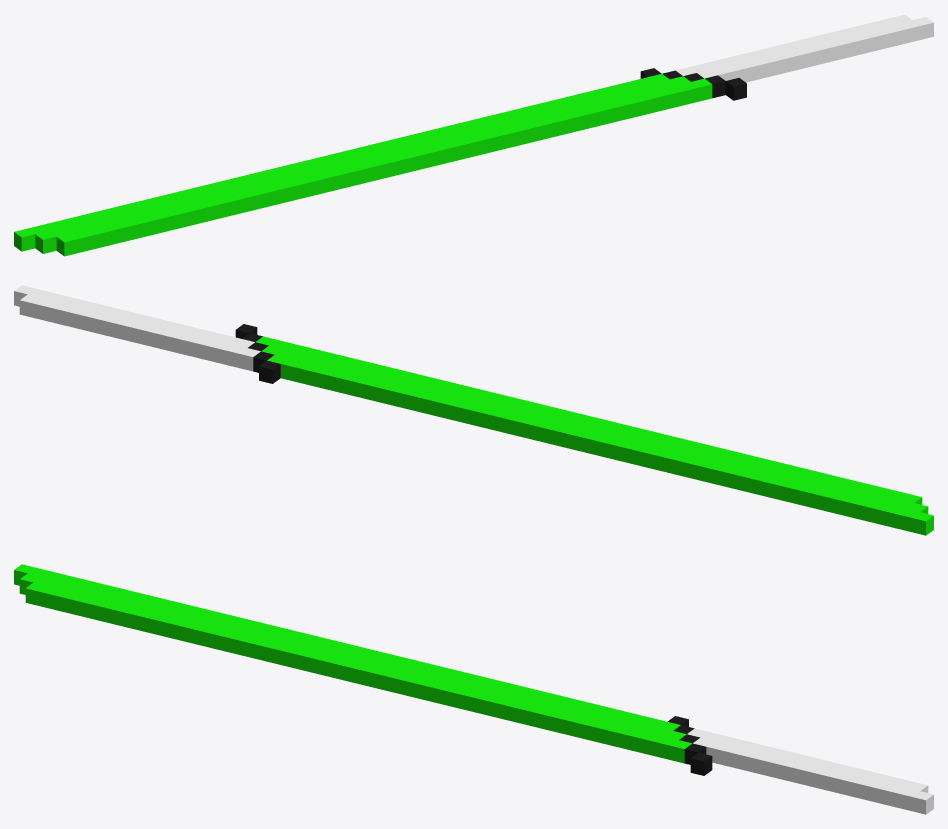
File: Weapons-1.obj
3 renders of one model, top to bottom at view 1: azimuth 30°, elevation 25°; view 2: azimuth 150°, elevation 25°; view 3: azimuth 330°, elevation 25°, orthographic.
Size of the model in its own units: 6.7 by 0.1 by 0.5.
